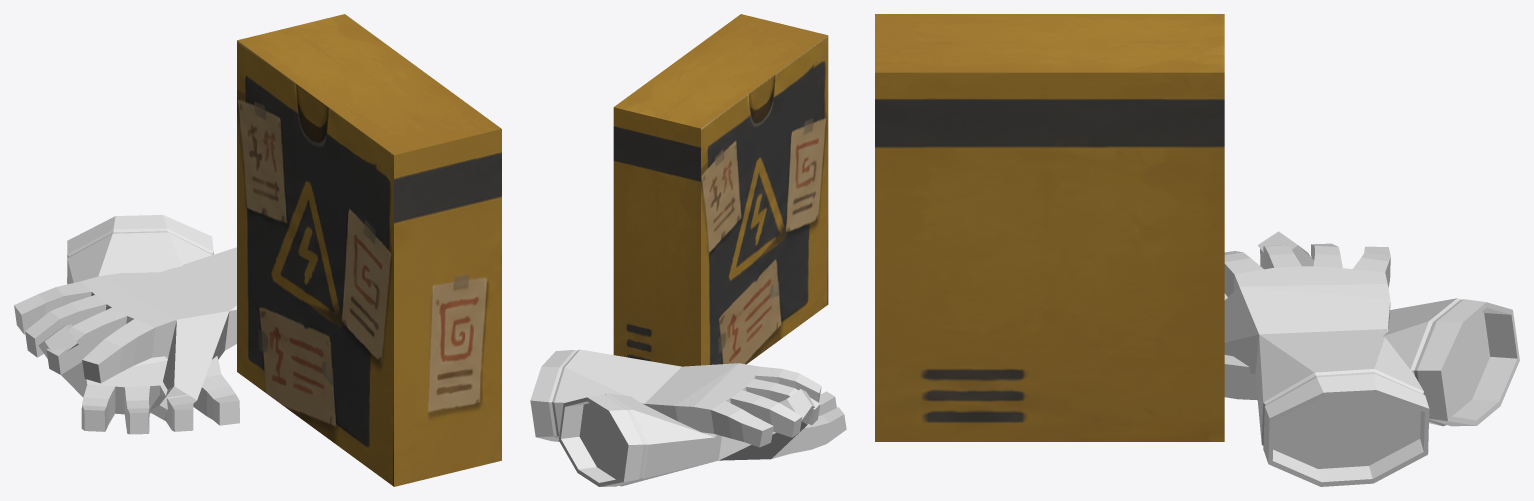
3 views of the same model, side by side, from view 1: azimuth 30°, elevation 25°; view 2: azimuth 150°, elevation 25°; view 3: azimuth 270°, elevation 25° (orthographic). The views are drawn at different scales.
Visible parts, largest first — view 1: Cube, Glove_2, Glove_1; view 2: Cube, Glove_2, Glove_1; view 3: Cube, Glove_2, Glove_1.
Part boxes in pixels (bbox=[...]): Cube: bbox=[237, 14, 501, 486]; Glove_2: bbox=[14, 247, 236, 420]; Glove_1: bbox=[38, 215, 239, 434]; Cube: bbox=[613, 14, 828, 366]; Glove_2: bbox=[530, 349, 821, 447]; Glove_1: bbox=[558, 389, 846, 486]; Cube: bbox=[875, 14, 1224, 441]; Glove_2: bbox=[1224, 243, 1429, 486]; Glove_1: bbox=[1224, 231, 1519, 426].
Bounding box in the file's own units: 2.23 × 2.57 × 3.69.
